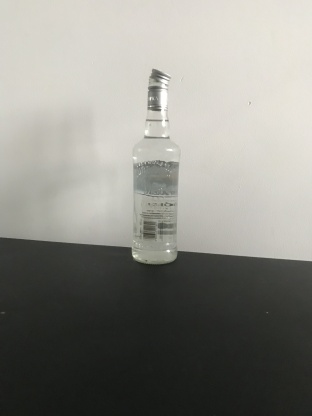nakretka: (145, 64, 172, 112)
